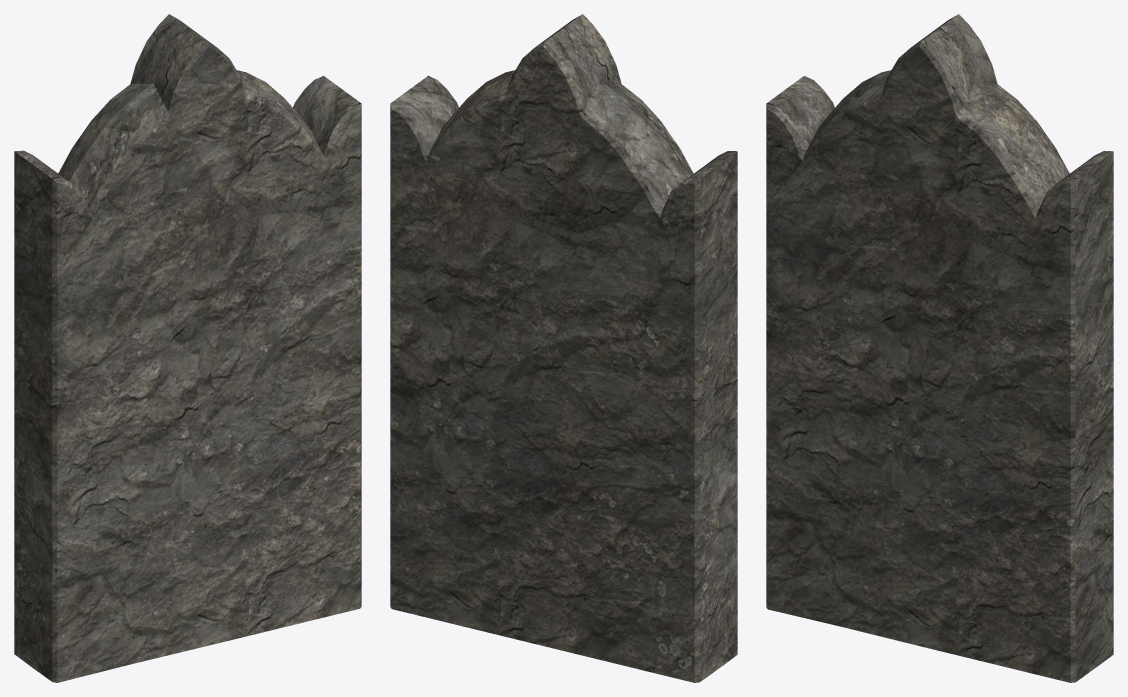
Rendered from Gravestones_Stone_04.fbx.
The picture shows the model from 3 angles, left to right: view 1: azimuth 30°, elevation 25°; view 2: azimuth 150°, elevation 25°; view 3: azimuth 330°, elevation 25°; orthographic projection.
Visible parts, largest first — view 1: polySurface37; view 2: polySurface37; view 3: polySurface37.
Part boxes in pixels (x1=…): polySurface37: x1=14, y1=14, x2=361, y2=682; polySurface37: x1=390, y1=14, x2=737, y2=682; polySurface37: x1=766, y1=14, x2=1113, y2=682.
Bounding box in the file's own units: 0.6154 × 1.15 × 0.1437.
